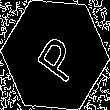P_NW: (27, 26, 83, 84)
